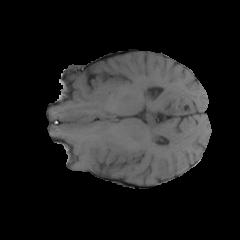glioma: (91, 139, 125, 172)
